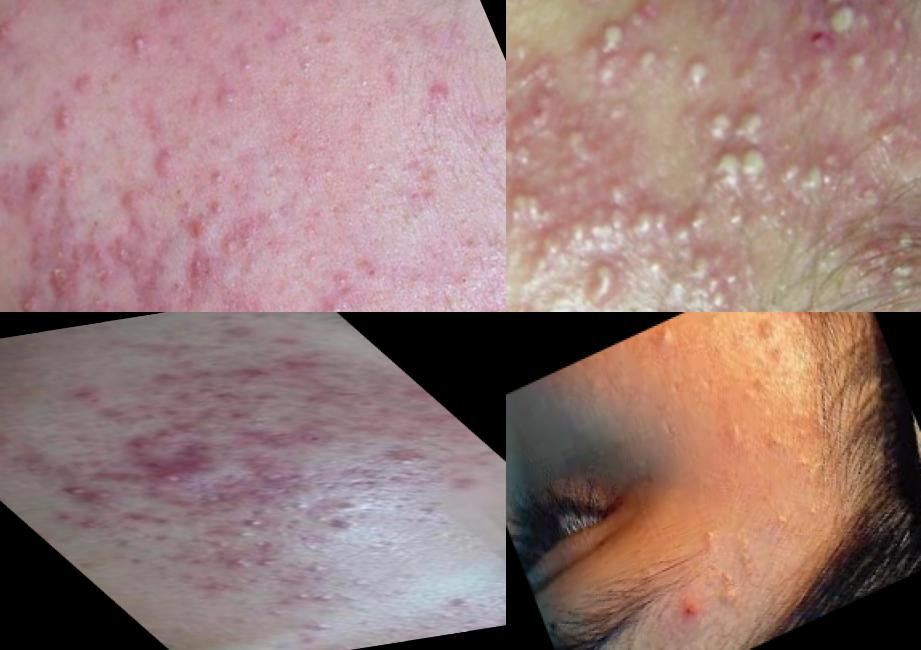blackhead: (763, 480, 833, 550), (684, 507, 742, 561), (753, 326, 803, 375), (756, 418, 795, 461)
papular: (106, 448, 247, 498), (231, 421, 353, 460), (43, 474, 143, 510), (131, 362, 236, 395), (282, 383, 386, 416), (252, 345, 353, 378), (109, 426, 206, 460), (215, 362, 314, 394), (362, 444, 449, 477), (43, 92, 88, 148), (209, 404, 286, 434), (44, 254, 84, 306), (142, 139, 186, 185), (53, 380, 125, 406)
purulent: (507, 73, 601, 236), (823, 10, 921, 161), (677, 84, 800, 200), (563, 4, 675, 108), (769, 139, 883, 234), (656, 237, 772, 313), (846, 218, 921, 313), (625, 189, 716, 266), (530, 206, 619, 273), (570, 242, 644, 303), (806, 1, 879, 53), (673, 41, 736, 100), (112, 12, 165, 69), (507, 50, 530, 112), (9, 282, 50, 313), (806, 1, 867, 18)
syringoma: (703, 554, 755, 626)
whitehead: (632, 313, 698, 364), (225, 34, 273, 89), (273, 577, 346, 607), (713, 406, 753, 457), (198, 151, 242, 197), (212, 221, 249, 265), (264, 493, 338, 515), (296, 612, 347, 638), (222, 513, 284, 531), (223, 526, 275, 546), (246, 556, 290, 572), (308, 560, 343, 574)
